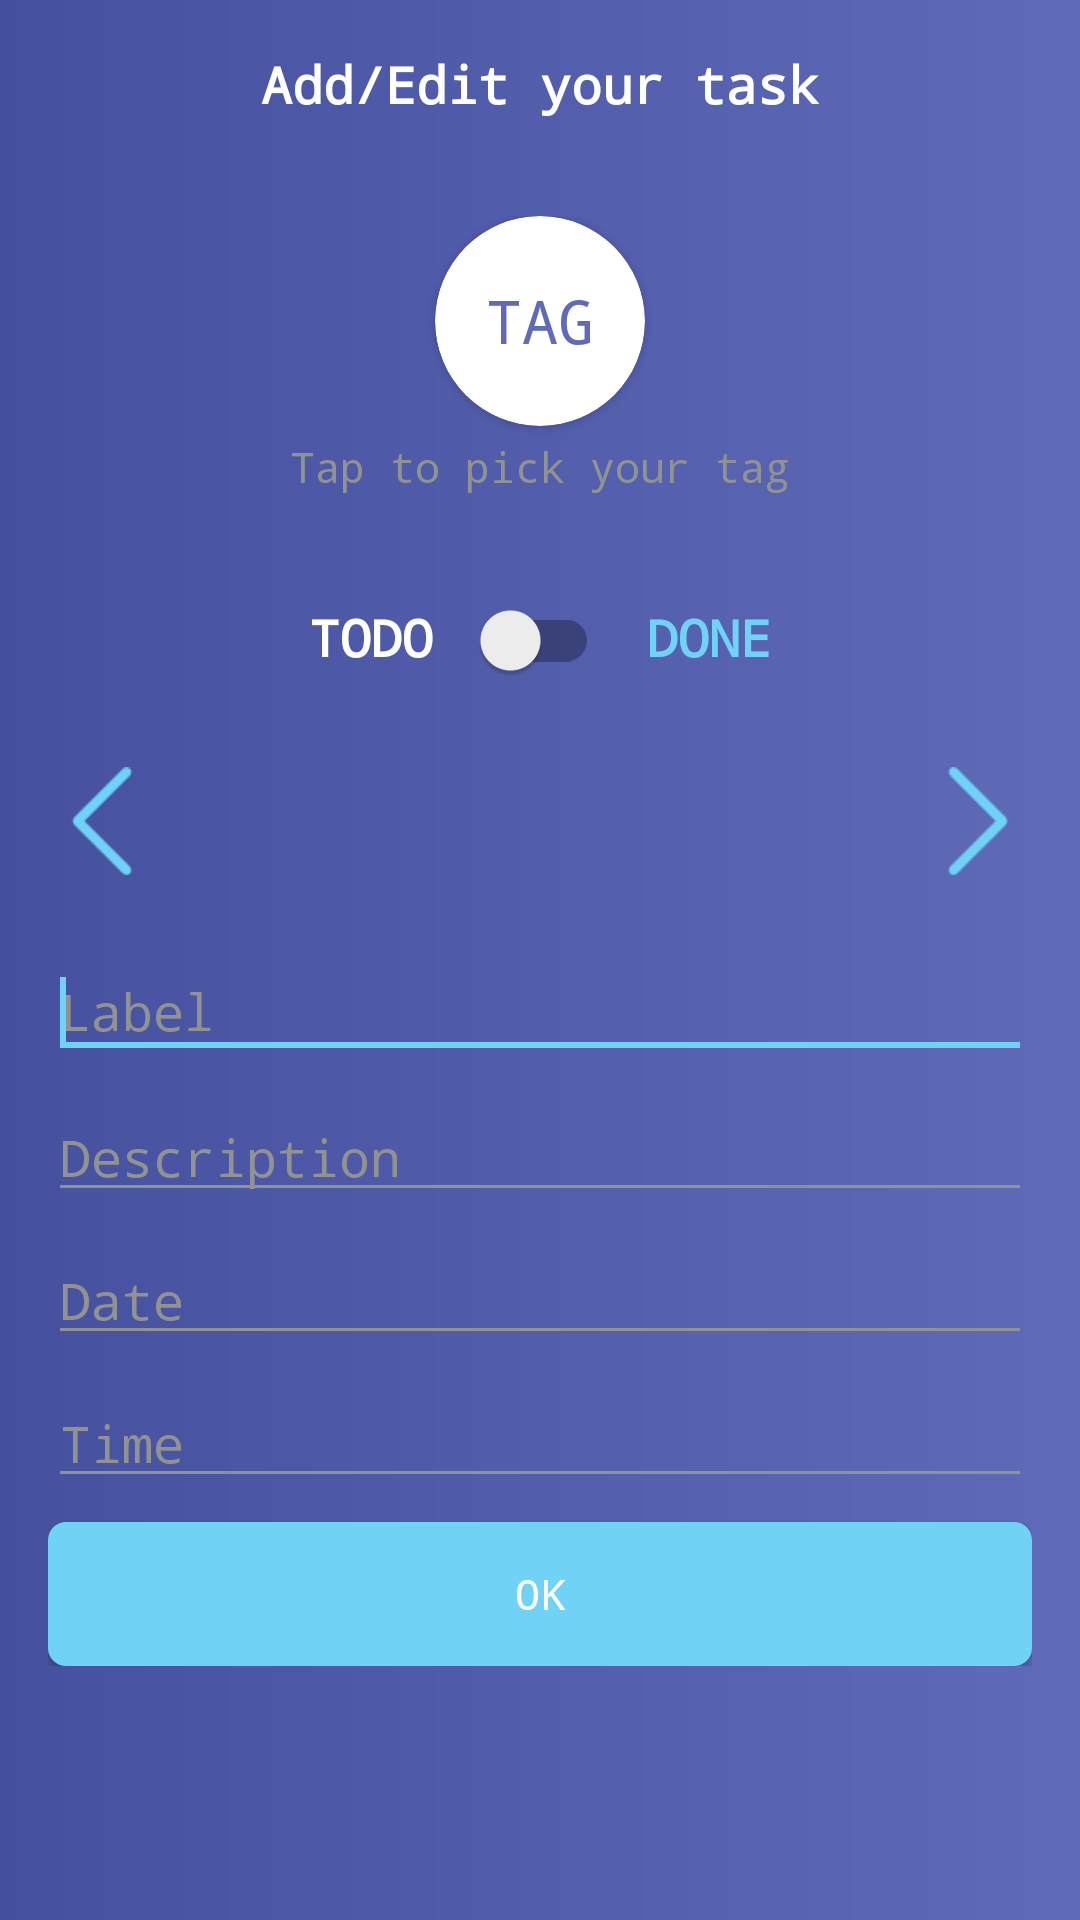

Screen size 1080px×1920px. Icon name, then its box in pixels as (x1, y1, x2, y2):
left arrow: (72, 767, 132, 875)
right arrow: (948, 767, 1008, 875)
